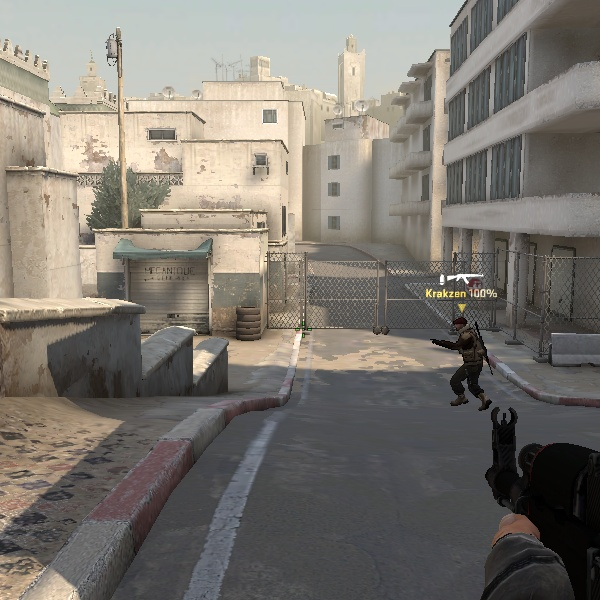t_body: (432, 312, 495, 408)
t_head: (450, 313, 475, 338)
